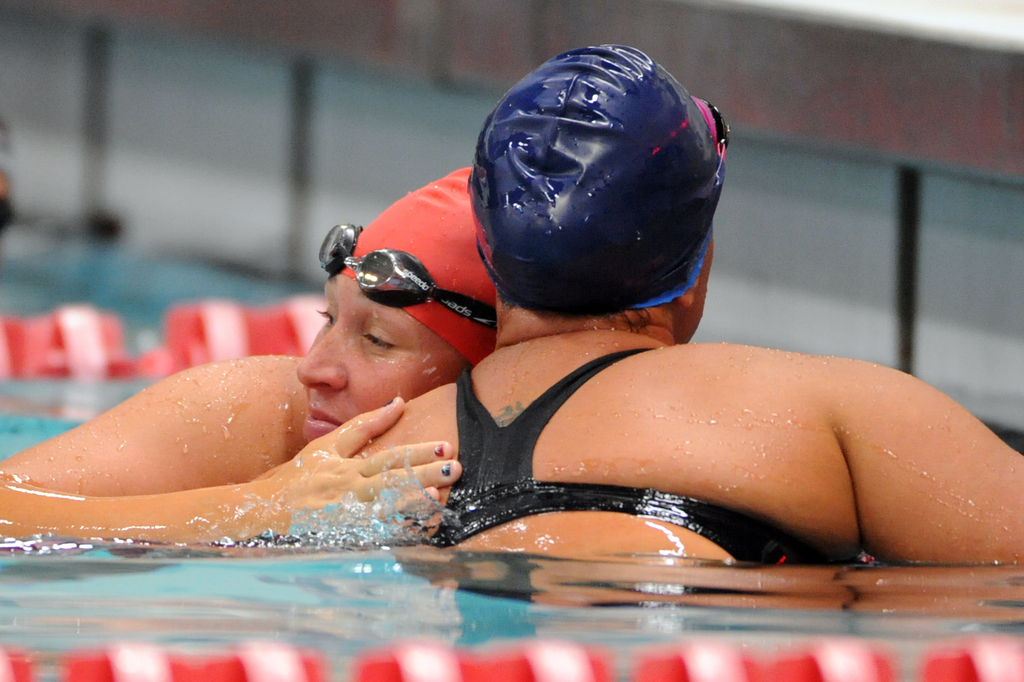Human-face: (300, 277, 471, 447), (677, 231, 716, 344)
